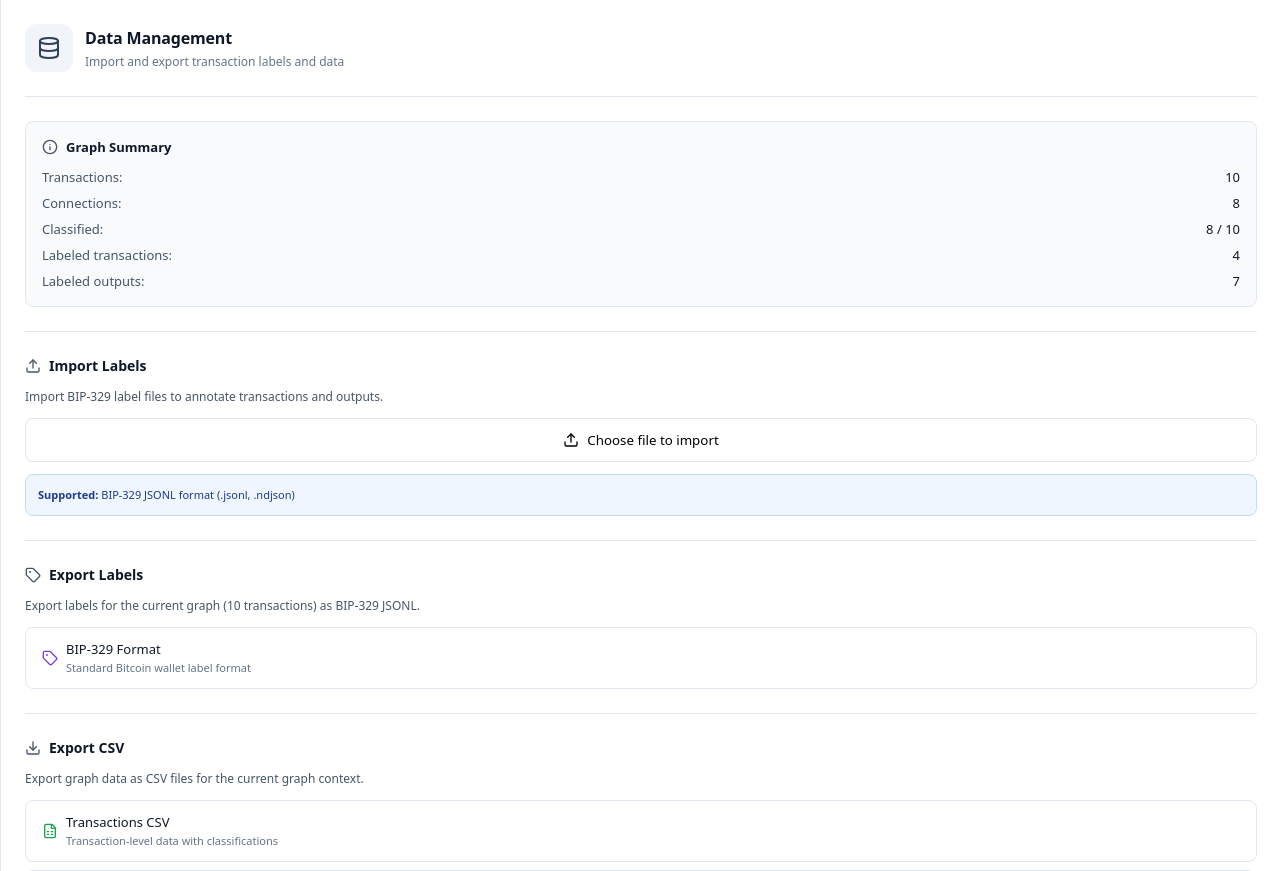
Test: DataManagementSidebar › shows import errors inline for BIP-329 import
This screenshot has width=1280, height=871.
Step 1. Click the button "Choose file to import" → (641, 440), box [25, 418, 1257, 462]
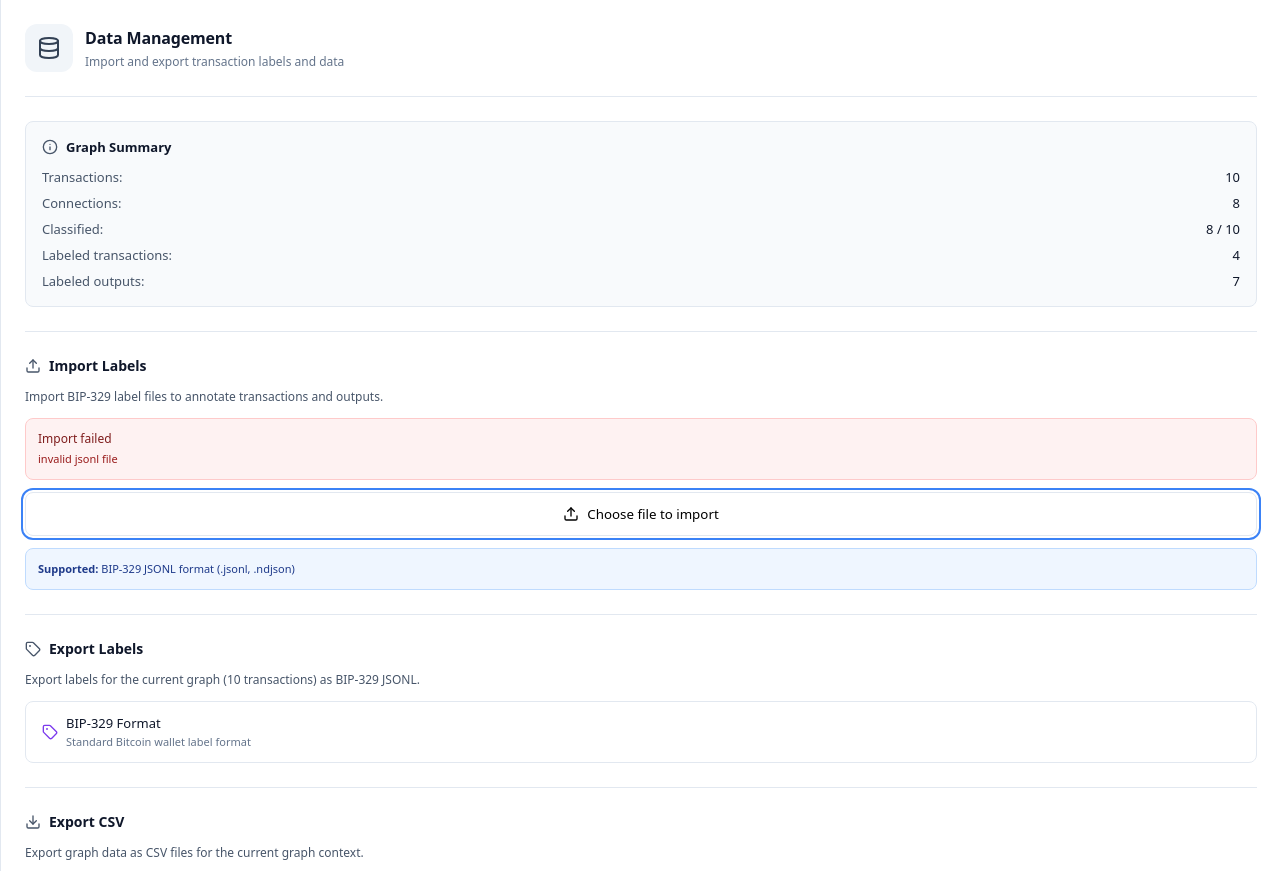
Expected: the text "invalid jsonl file" is shown, [38, 451, 118, 466]
